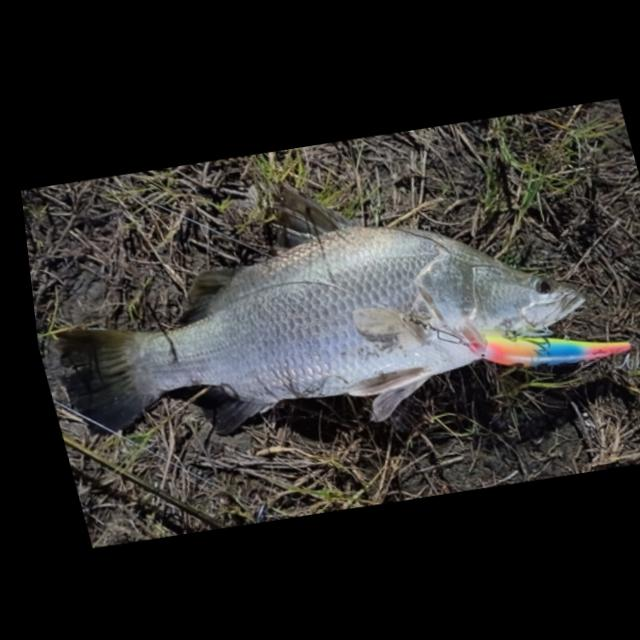Seabass: (15, 137, 623, 472)
